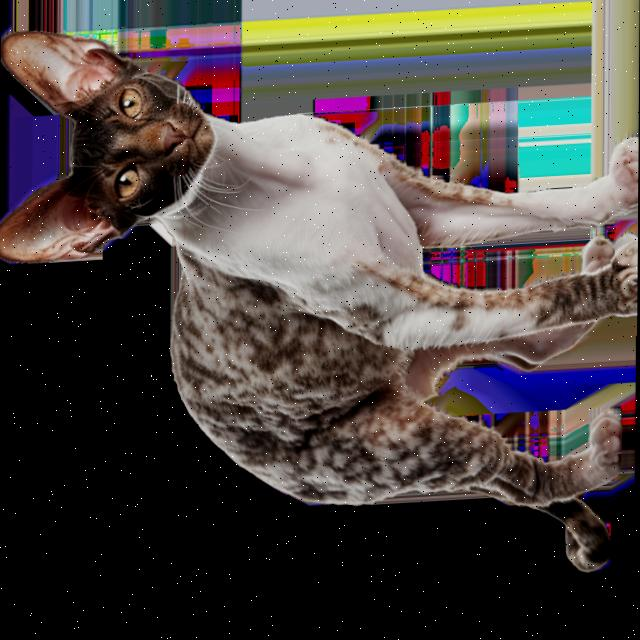Cornish Rex: (0, 0, 640, 612)
